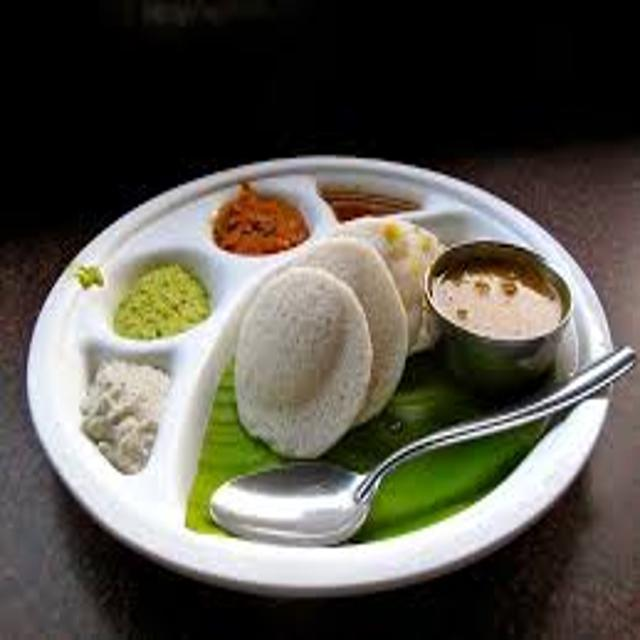idli: (235, 267, 372, 458), (296, 238, 407, 423), (335, 217, 443, 352)
